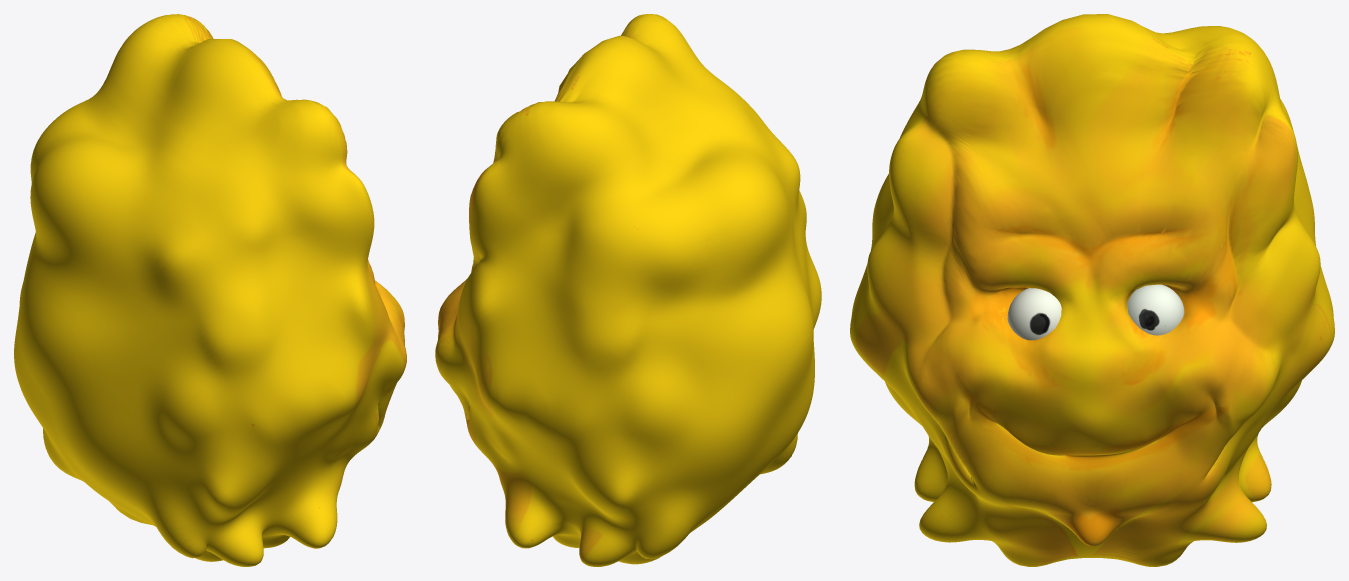
Rendered from yellowmodelfbx 1.fbx.
3 renders of one model, left to right at view 1: azimuth 30°, elevation 25°; view 2: azimuth 150°, elevation 25°; view 3: azimuth 270°, elevation 25°, orthographic. The views are drawn at different scales.
Parts seen in each view (by area): view 1: Sphere.005; view 2: Sphere.005; view 3: Sphere.005.
Boxes of the visible parts, left/top/right/bottom form: Sphere.005: left=14, top=14, right=406, bottom=566; Sphere.005: left=435, top=14, right=821, bottom=566; Sphere.005: left=850, top=14, right=1334, bottom=566.
Bounding box in the file's own units: 208 × 297 × 241.
